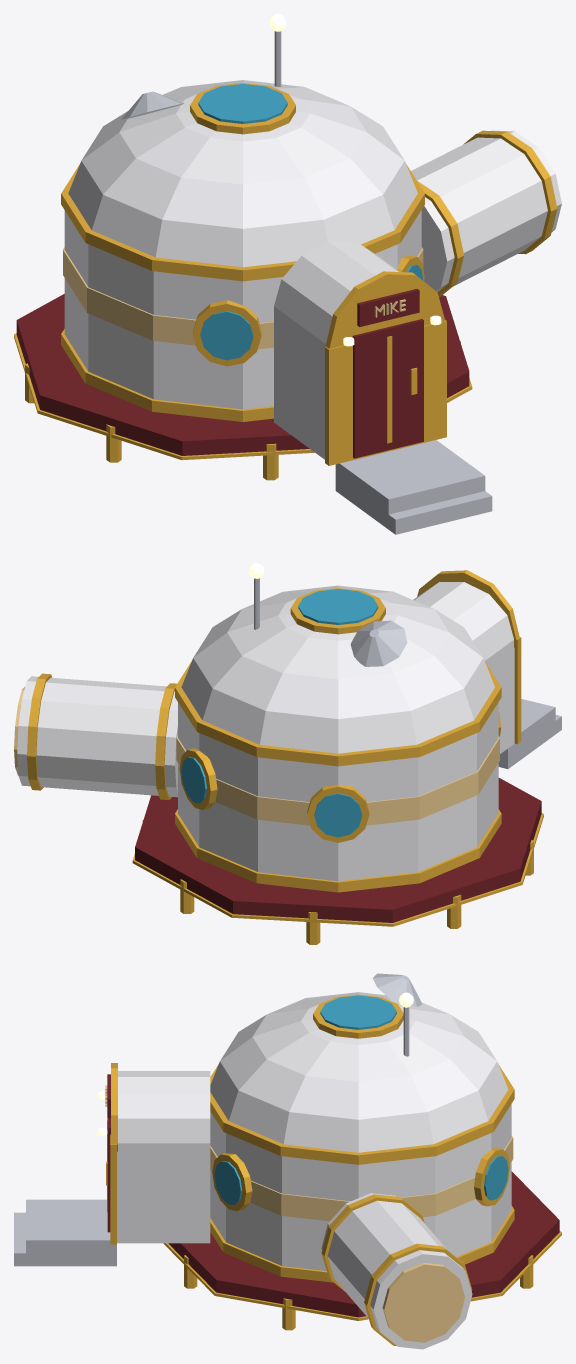
The model's file is casa-do-mike-n2.glb.
3 renders of one model, top to bottom at view 1: azimuth 30°, elevation 25°; view 2: azimuth 150°, elevation 25°; view 3: azimuth 270°, elevation 25°, orthographic. The views are drawn at different scales.
Visible parts, largest first — view 1: casa-do-mike-n2; view 2: casa-do-mike-n2; view 3: casa-do-mike-n2.
Part boxes in pixels (<box>): casa-do-mike-n2: <box>14,14,561,534</box>; casa-do-mike-n2: <box>14,563,561,944</box>; casa-do-mike-n2: <box>14,973,561,1349</box>.
Size of the model in its own units: 16.58 by 10.03 by 17.17.
